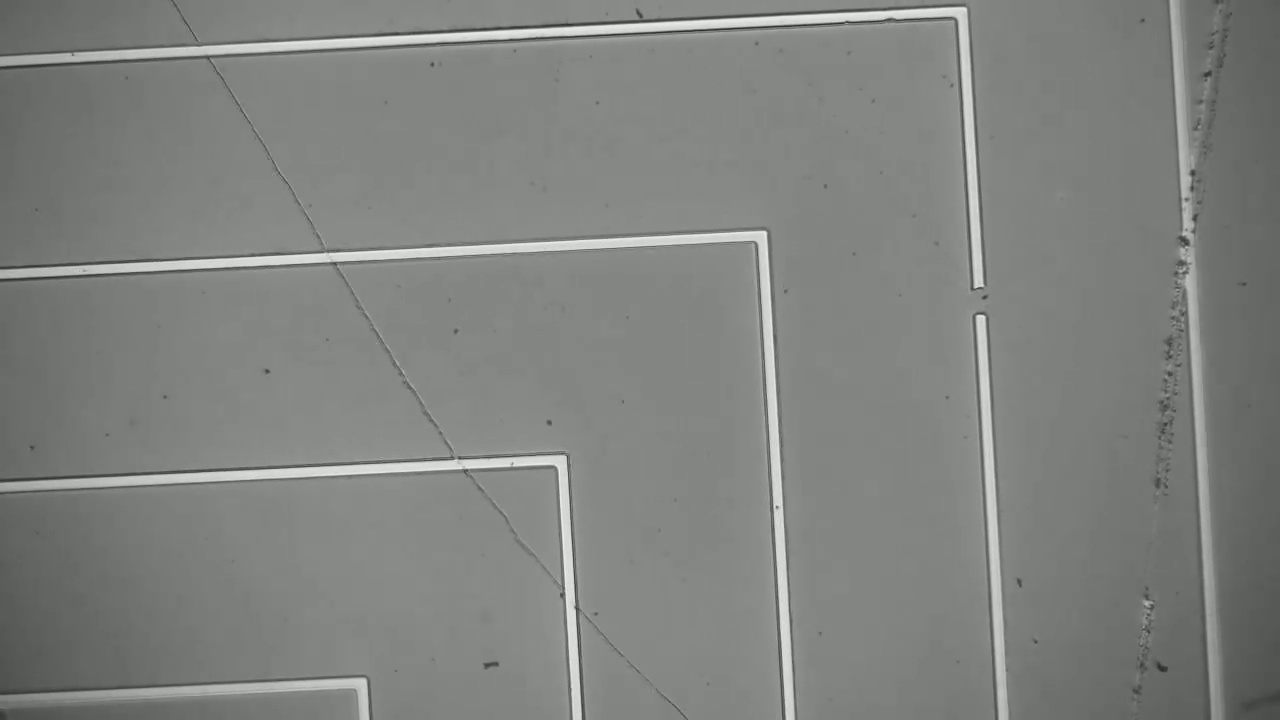open: (955, 269, 1008, 343)
scratch: (168, 2, 688, 710), (1123, 27, 1237, 707)
